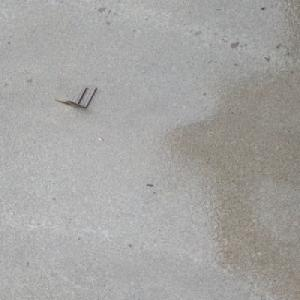MetalPart: (53, 85, 97, 109)
